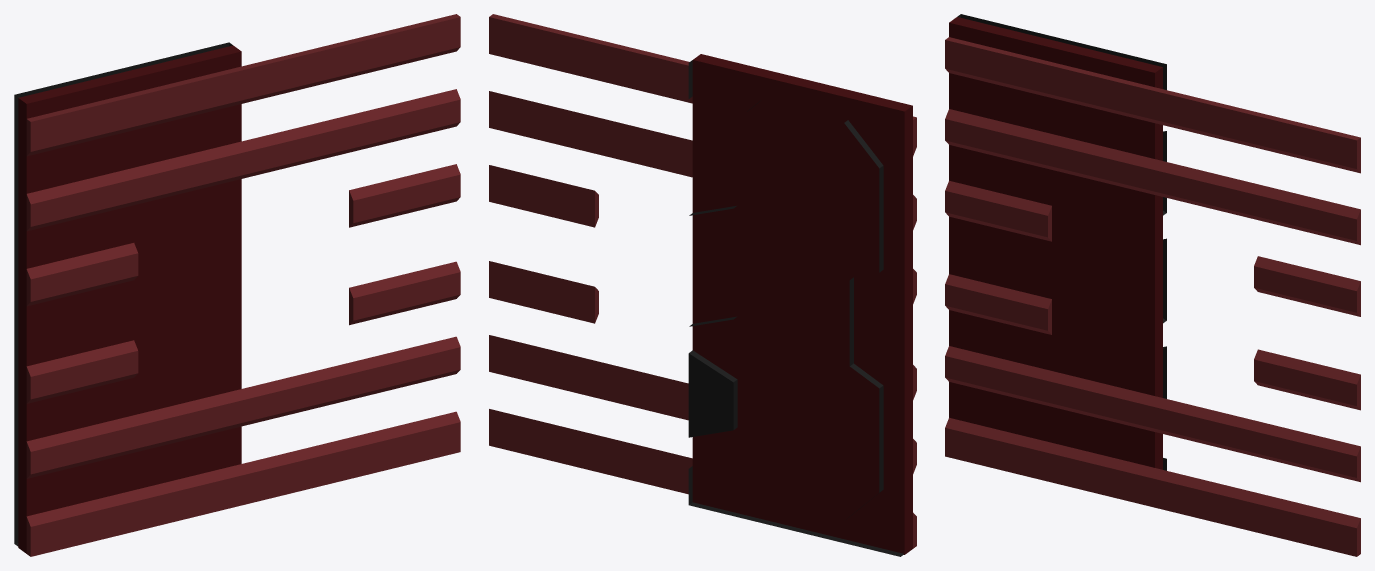
The model's file is Small_Wall_Interior.glb.
The picture shows the model from 3 angles, left to right: view 1: azimuth 30°, elevation 25°; view 2: azimuth 150°, elevation 25°; view 3: azimuth 330°, elevation 25°; orthographic projection. The views are drawn at different scales.
Parts seen in each view (by area): view 1: Small_Interior, Small_Wall, Small_Border_Exterior; view 2: Small_Wall, Small_Interior, Small_Hex, Small_Border_Exterior; view 3: Small_Interior, Small_Wall, Small_Border_Exterior, Small_Hex.
Boxes of the visible parts, bbox=[...] form: Small_Interior: bbox=[26, 14, 460, 556]; Small_Wall: bbox=[18, 45, 241, 553]; Small_Border_Exterior: bbox=[14, 42, 232, 546]; Small_Wall: bbox=[692, 54, 912, 554]; Small_Interior: bbox=[489, 14, 916, 548]; Small_Hex: bbox=[688, 206, 737, 437]; Small_Border_Exterior: bbox=[688, 60, 903, 556]; Small_Interior: bbox=[945, 37, 1360, 556]; Small_Wall: bbox=[949, 17, 1162, 469]; Small_Border_Exterior: bbox=[957, 14, 1166, 470]; Small_Hex: bbox=[1163, 131, 1166, 398].
Size of the model in its own units: 6 by 6 by 0.4.
